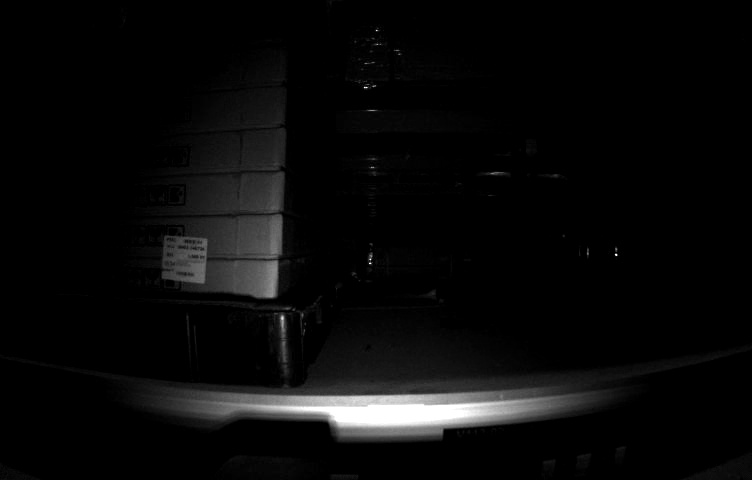True Barcode: (159, 235, 212, 286)
